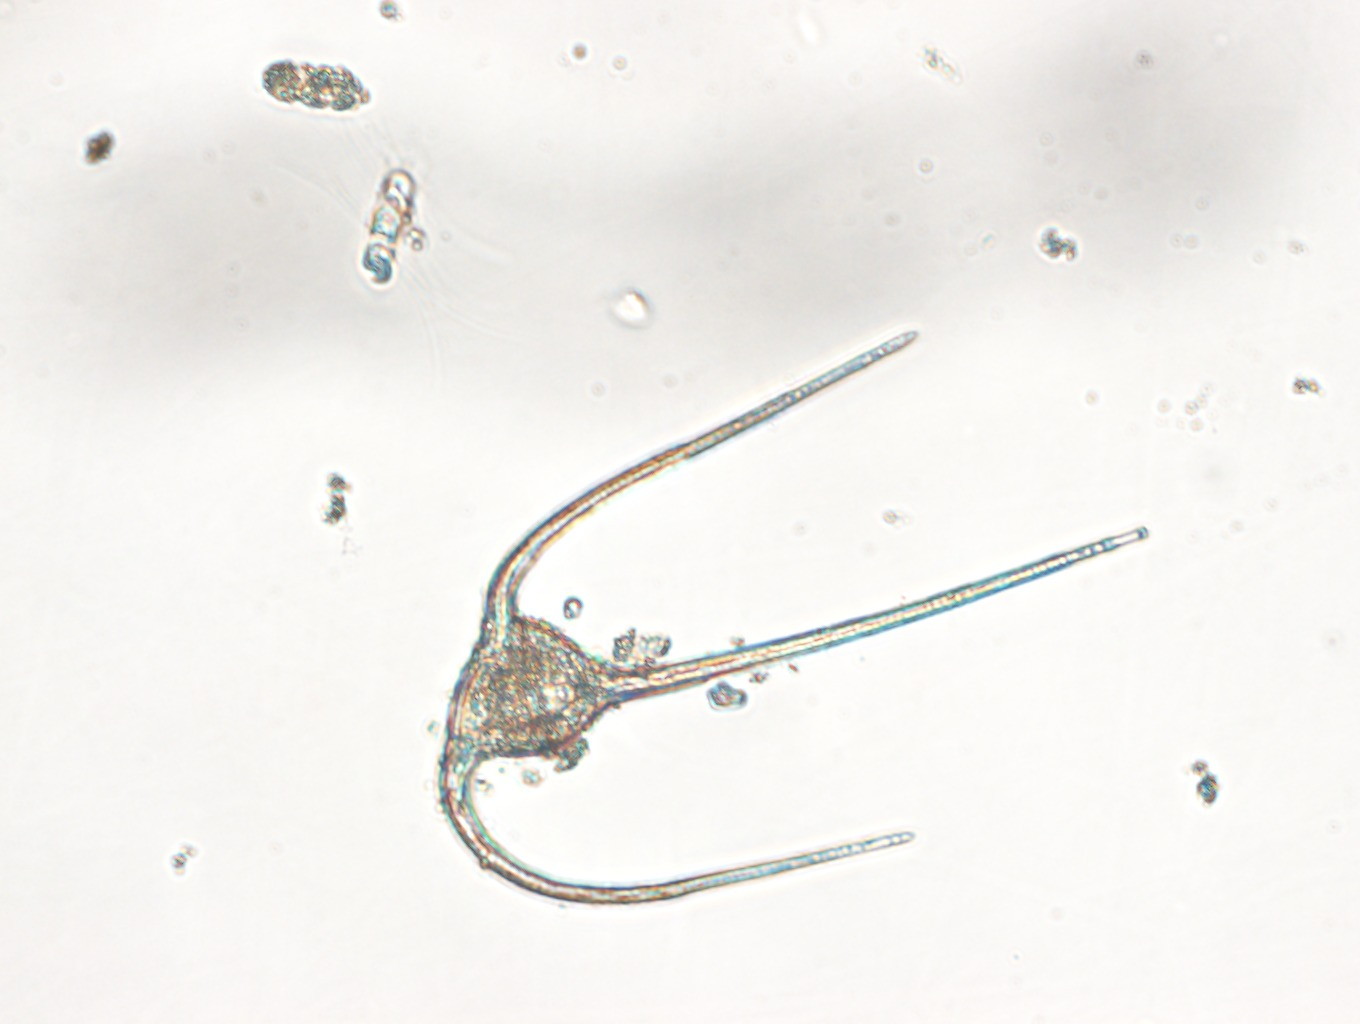ceratium trichoceros: (434, 315, 1156, 912)
